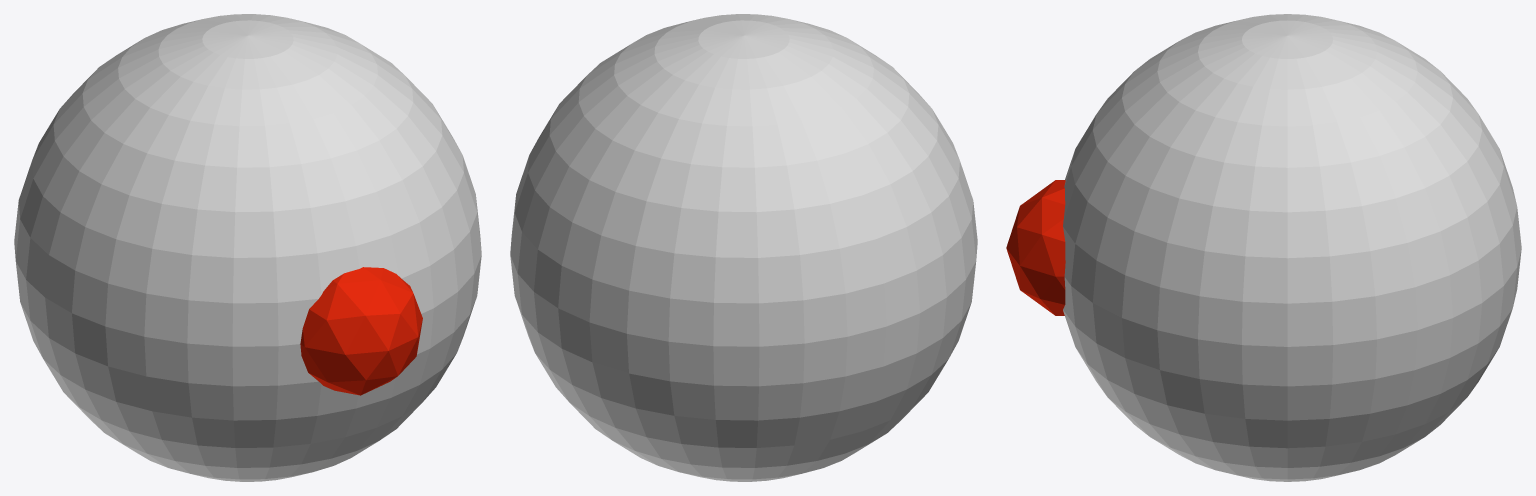
Rendered from sentry_top.glb.
3 renders of one model, left to right at view 1: azimuth 30°, elevation 25°; view 2: azimuth 150°, elevation 25°; view 3: azimuth 270°, elevation 25°, orthographic.
Visible parts, largest first — view 1: Icosphere; view 2: Icosphere; view 3: Icosphere.
Boxes of the visible parts, box(x1,y1,x2,y2) form: Icosphere: box(14, 14, 481, 481); Icosphere: box(510, 14, 977, 481); Icosphere: box(1006, 14, 1521, 481).
Size of the model in its own units: 2 by 2 by 2.2.
